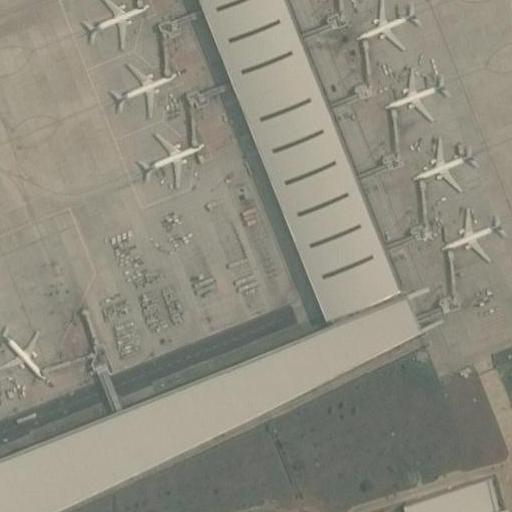Aircraft: (108, 54, 177, 110), (139, 127, 207, 183), (382, 67, 445, 120), (444, 210, 503, 261), (354, 0, 418, 47), (0, 324, 52, 380), (83, 0, 143, 44), (414, 143, 473, 187)
